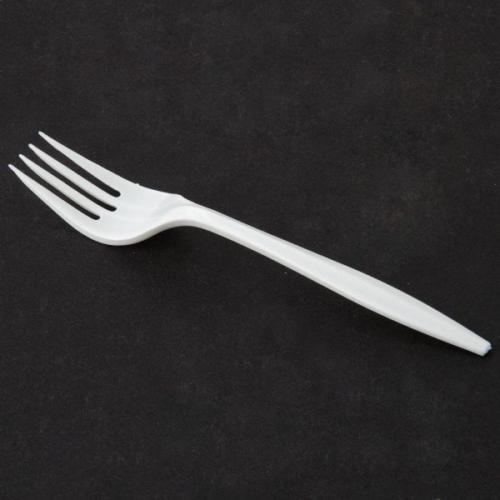Fork: (8, 131, 491, 356)
